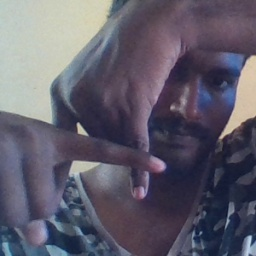H: (31, 97, 169, 214)
